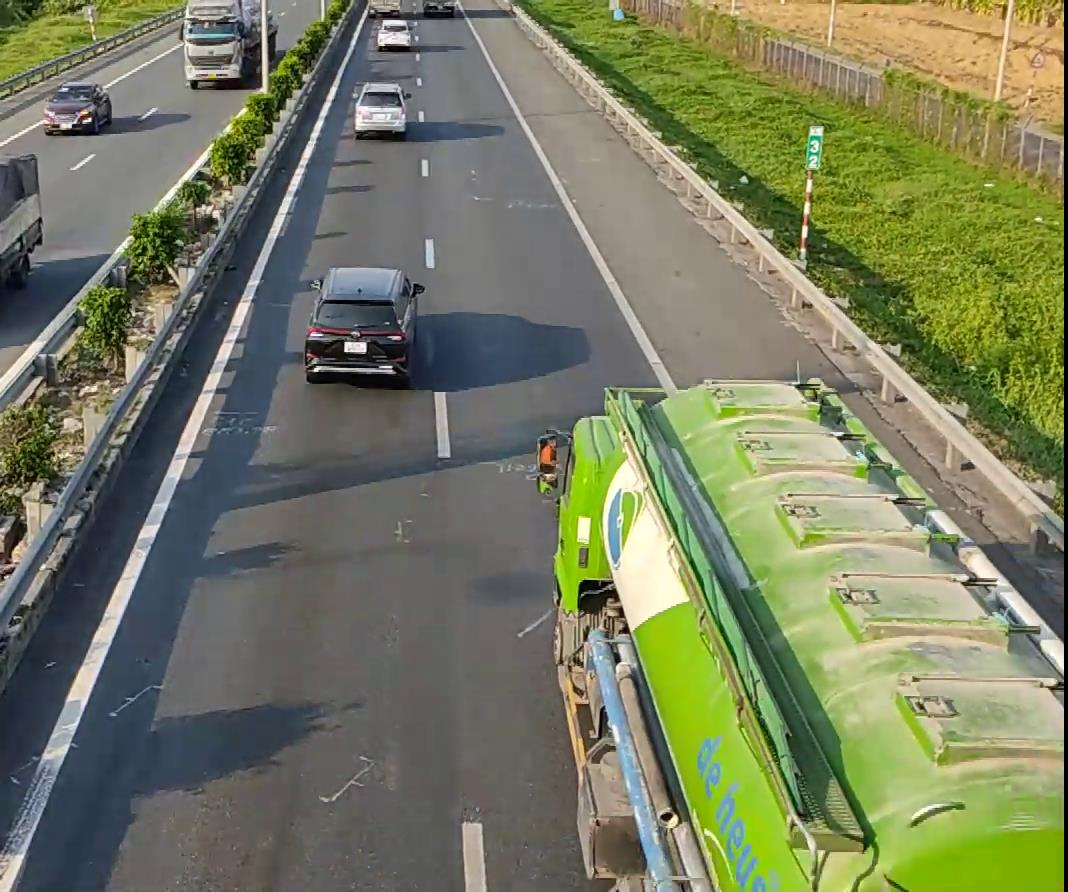car: (298, 265, 422, 384)
container: (543, 380, 1056, 882)
truck: (0, 144, 44, 366)
